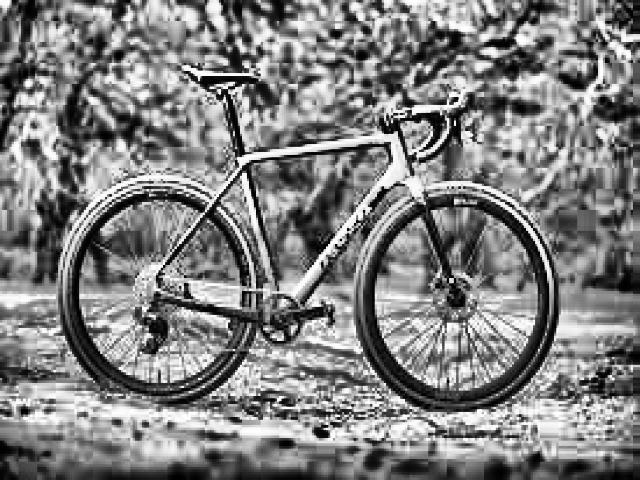cassette: (132, 262, 184, 316)
cranks_set: (254, 291, 332, 348)
pedal: (318, 294, 336, 328)
rear_derailleur: (134, 303, 170, 356)
saddle: (182, 65, 260, 96)
sti_shifter: (456, 87, 486, 152)
wheel: (351, 179, 560, 412), (57, 172, 262, 400)
